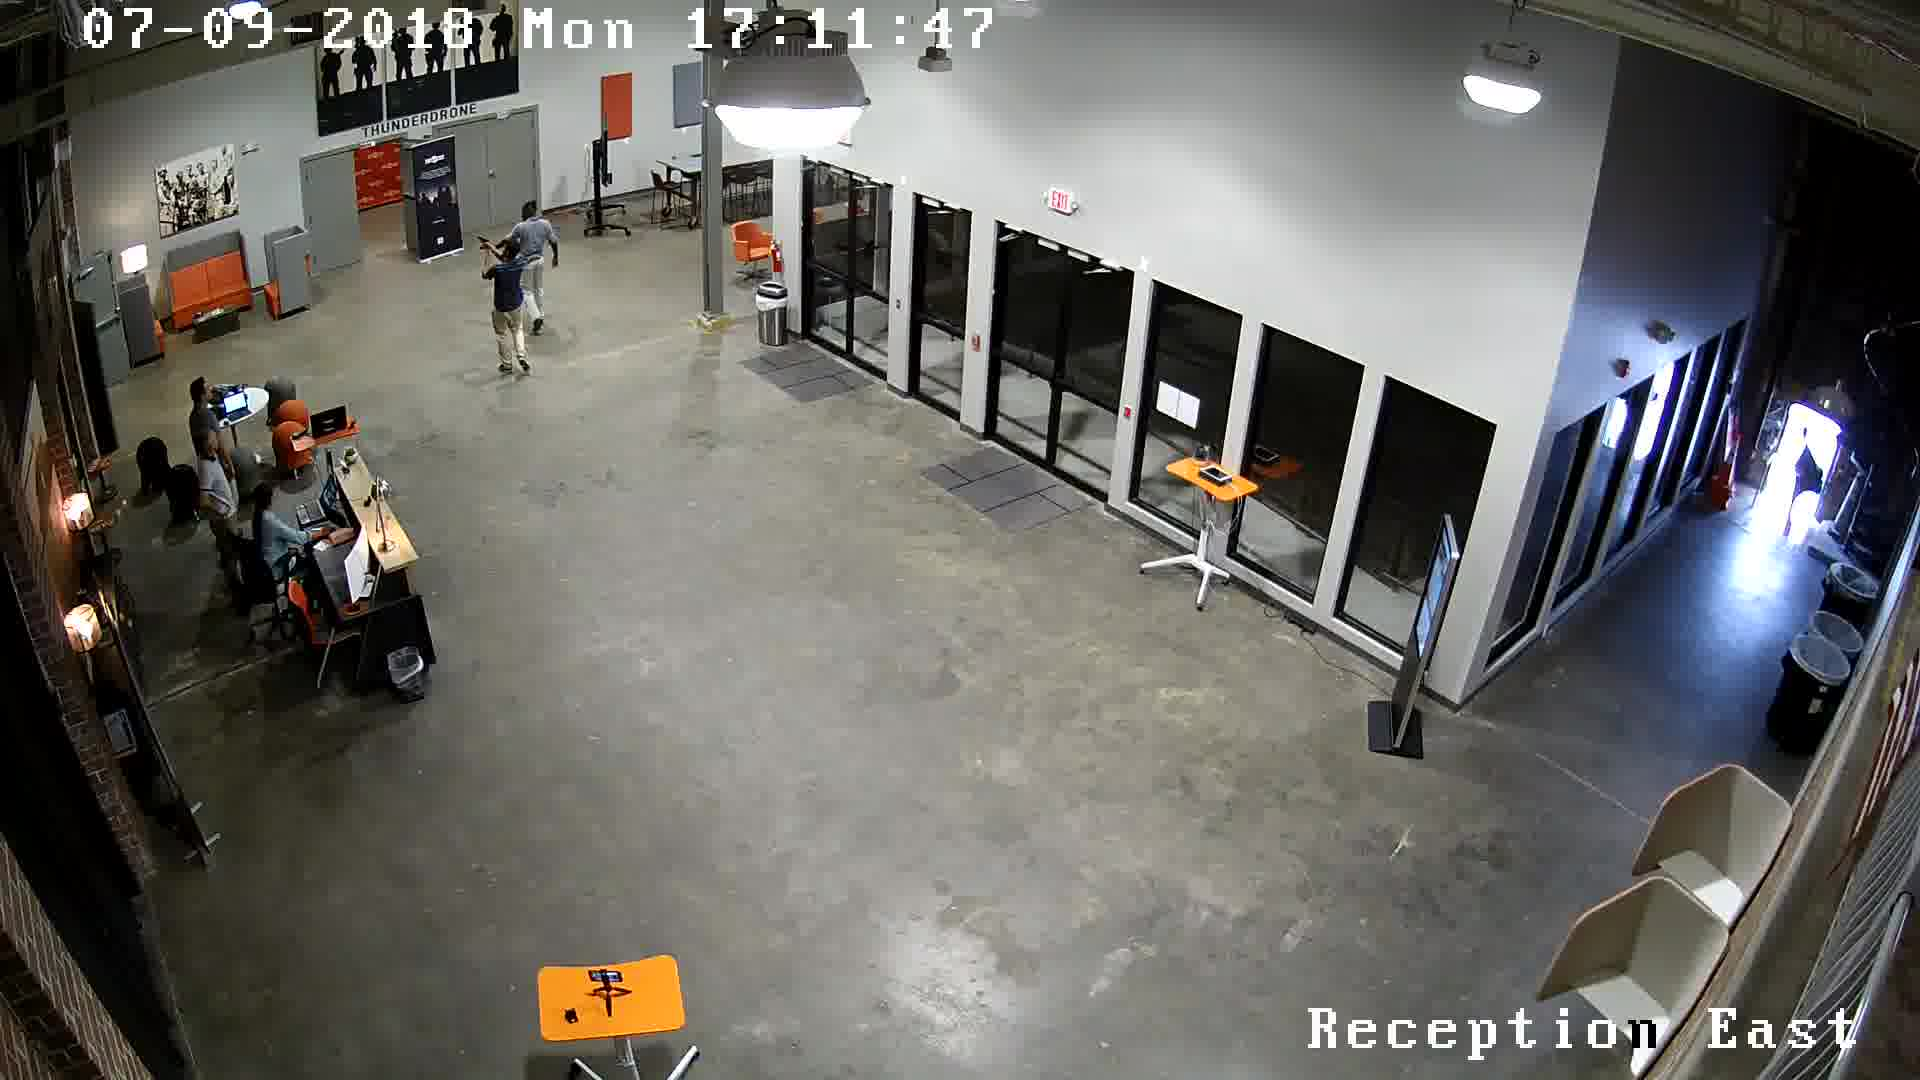pistol: (465, 229, 495, 262)
